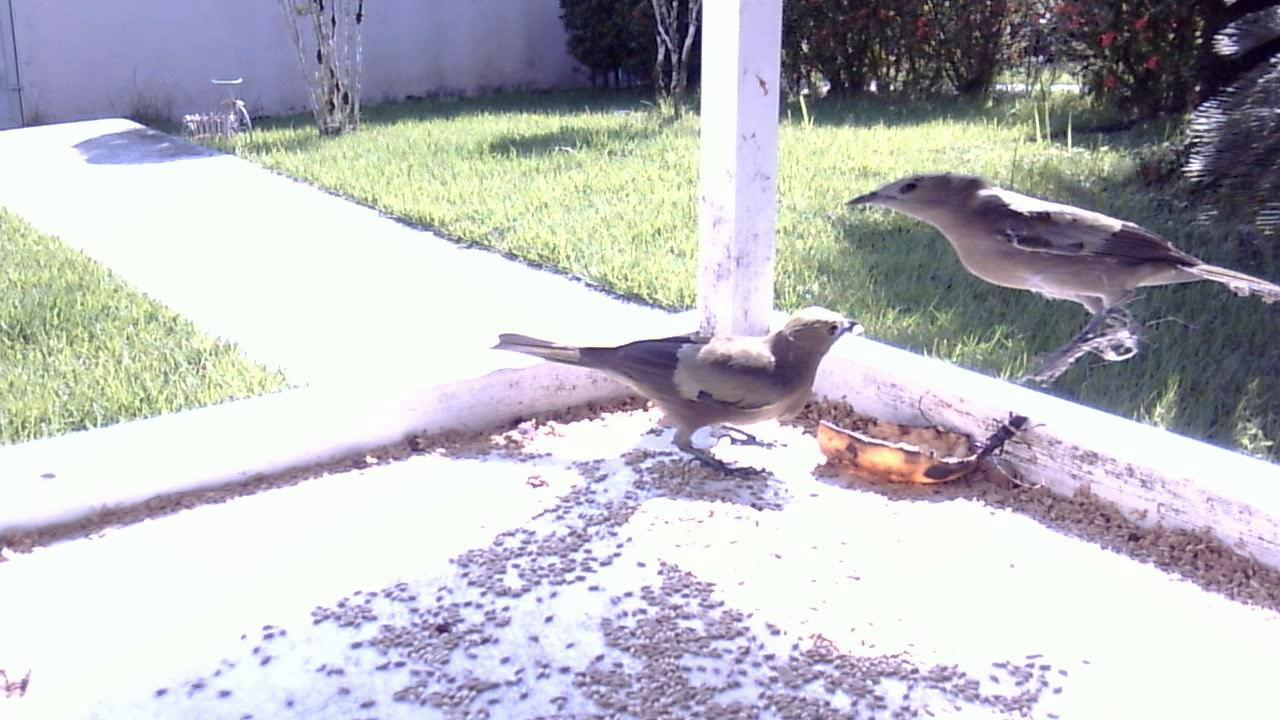sanhaco_do_coqueiro: (822, 159, 1280, 431), (479, 286, 862, 493)
